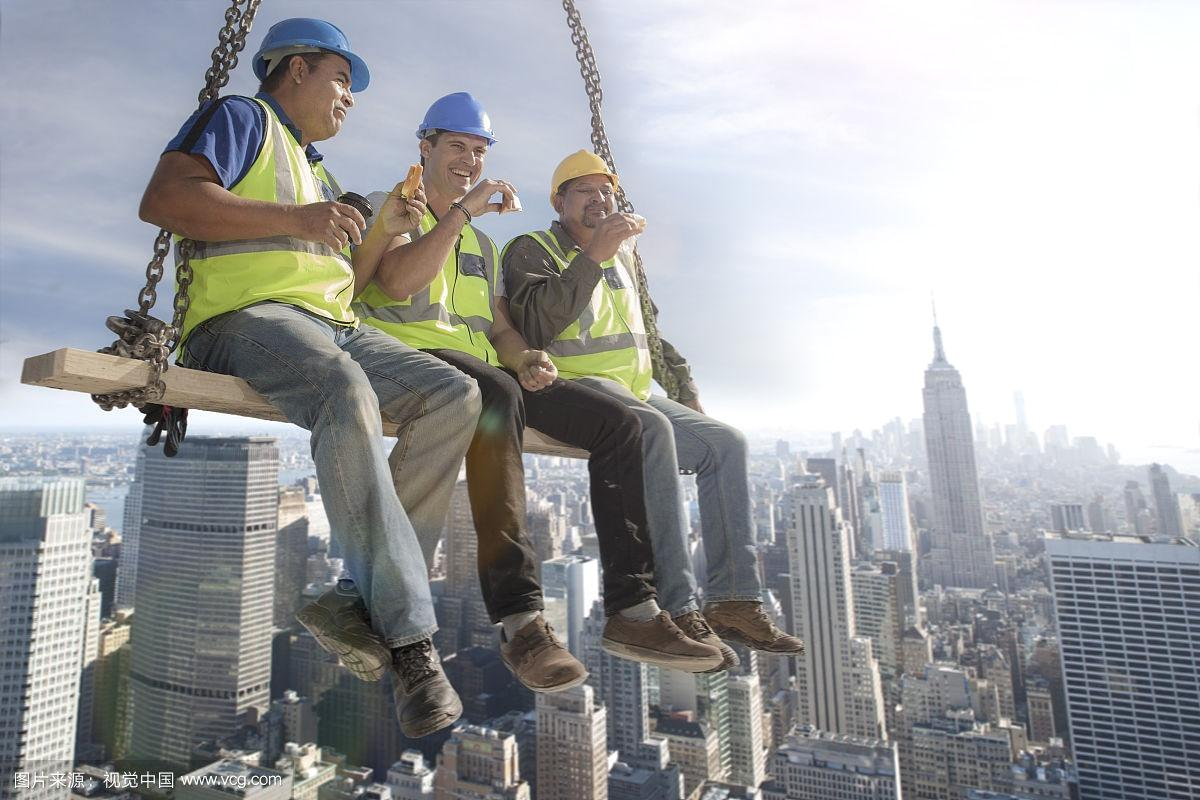helmet: (253, 17, 372, 78), (416, 94, 499, 149), (551, 147, 621, 188)
person: (142, 4, 368, 739), (538, 132, 798, 677), (353, 74, 543, 702)
